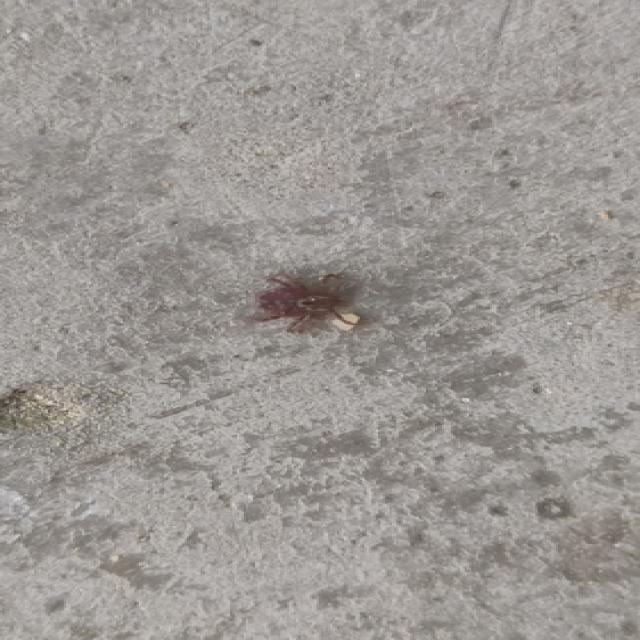Dermacentor Reticulatus-F: (244, 275, 360, 333)
